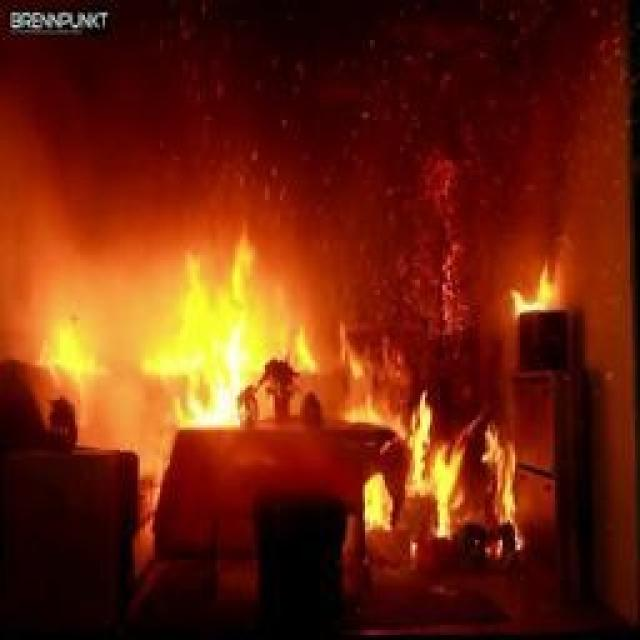fire: (6, 185, 564, 565)
